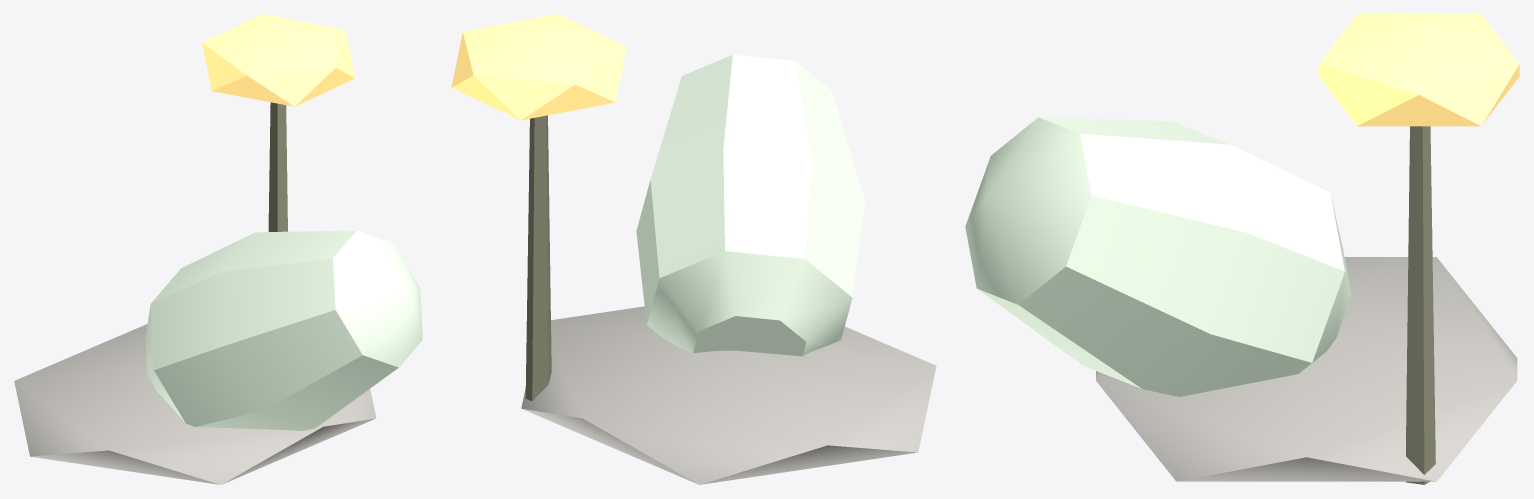
File: greying_seed_capsule.glb
The picture shows the model from 3 angles, left to right: view 1: azimuth 30°, elevation 25°; view 2: azimuth 150°, elevation 25°; view 3: azimuth 270°, elevation 25°; orthographic projection. The views are drawn at different scales.
Parts seen in each view (by area): view 1: greying_seed_capsule; view 2: greying_seed_capsule; view 3: greying_seed_capsule.
Part boxes in pixels (bbox=[...]): greying_seed_capsule: bbox=[14, 14, 422, 484]; greying_seed_capsule: bbox=[451, 14, 936, 484]; greying_seed_capsule: bbox=[965, 14, 1519, 484].
Size of the model in its own units: 0.4012 by 0.375 by 0.3941.
